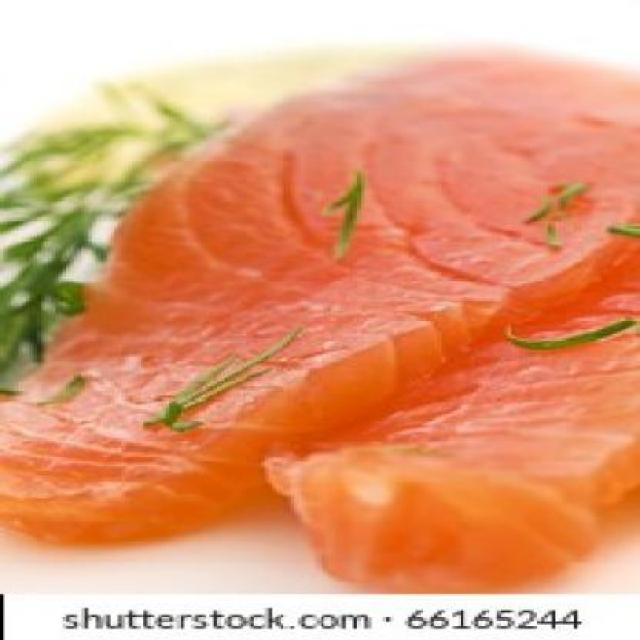salmon: (18, 32, 640, 550), (161, 215, 640, 585)
